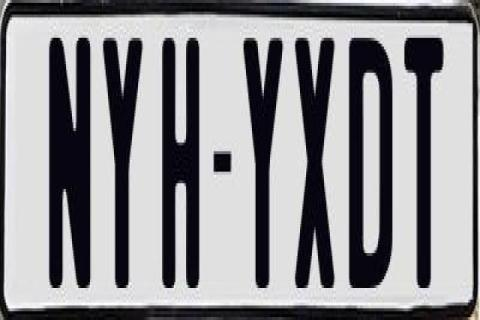D: (346, 38, 390, 291)
H: (158, 32, 198, 288)
N: (47, 35, 93, 299)
T: (402, 35, 440, 299)
X: (291, 32, 338, 296)
Y: (100, 29, 144, 288), (240, 38, 284, 291)
